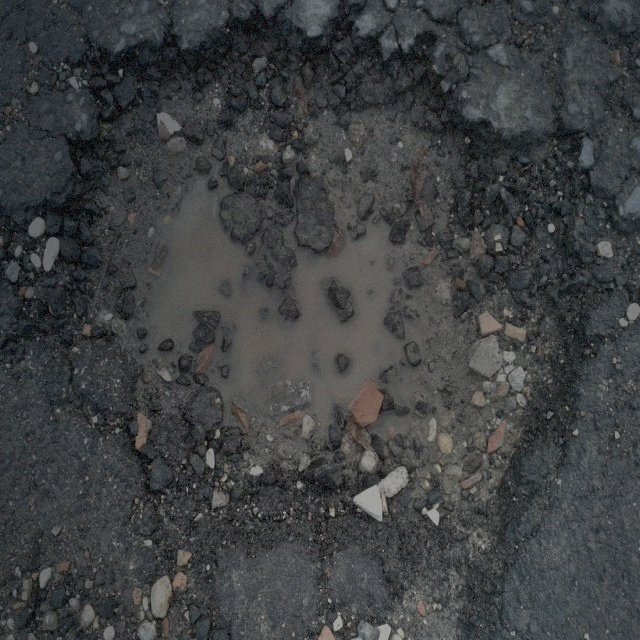pothole: (46, 16, 591, 568)
